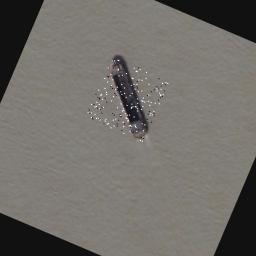boat: (85, 56, 169, 142)
